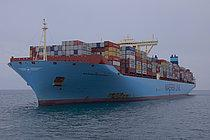Ship: (3, 17, 201, 110)
